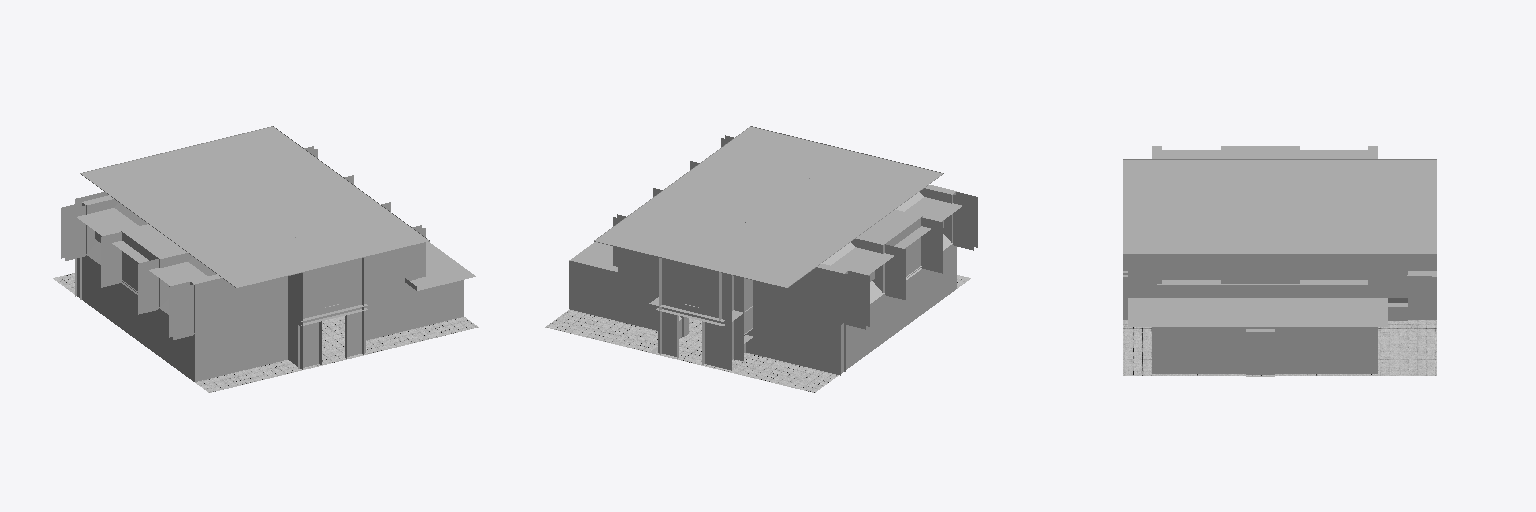
3 views of the same model, side by side, from view 1: azimuth 30°, elevation 25°; view 2: azimuth 150°, elevation 25°; view 3: azimuth 270°, elevation 25° (orthographic).
Bounding box in the file's own units: 2206 × 708 × 2048.
14 materials, 1 textured.